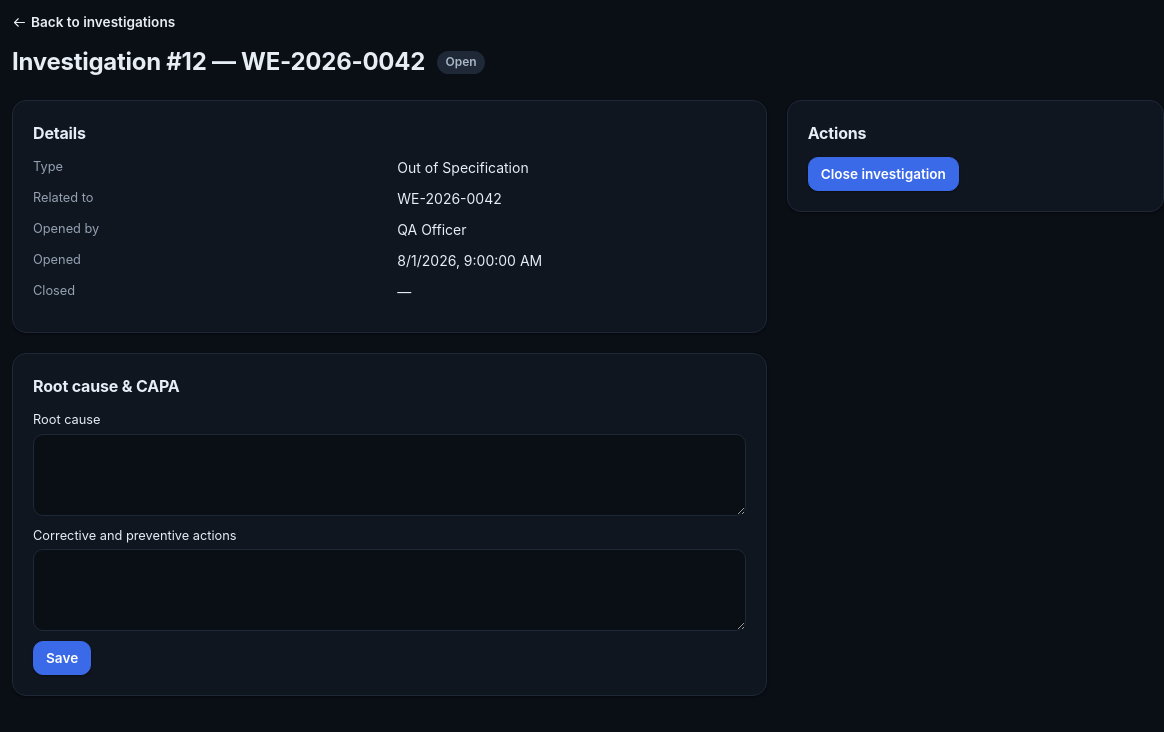
Test: closing › surfaces the server's refusal
This screenshot has width=1164, height=732.
Click the button "Close investigation".
click(883, 174)  # box [808,157,959,191]
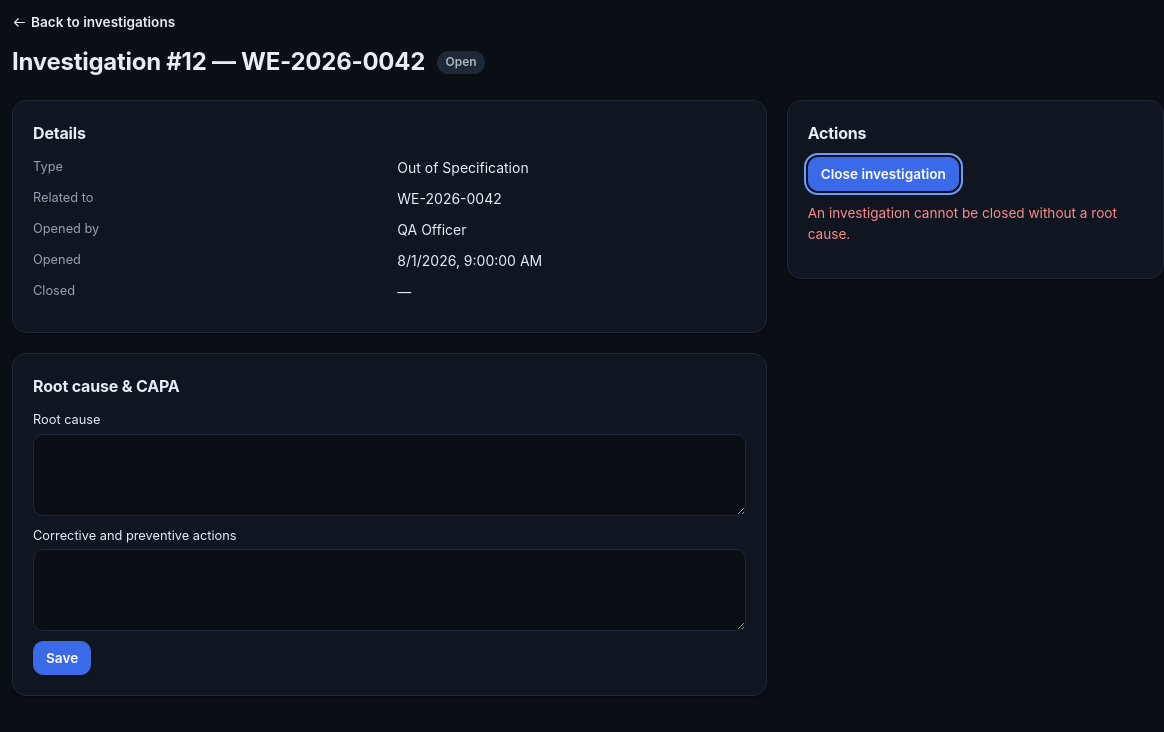
Result: the text "An investigation cannot be closed without a root cause." is shown at [808,203,1143,244]
